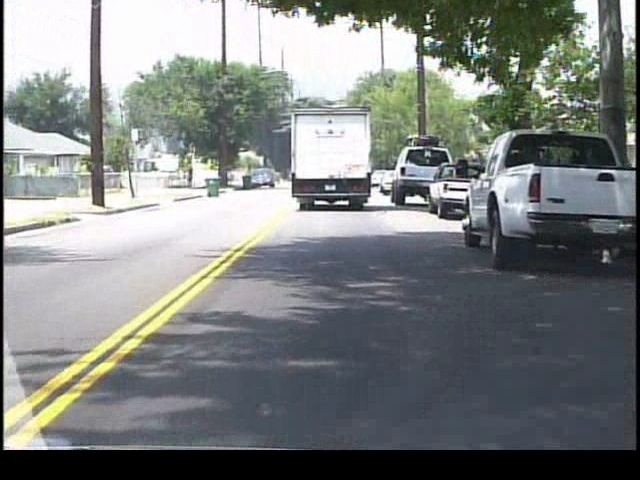person: (187, 163, 196, 187)
